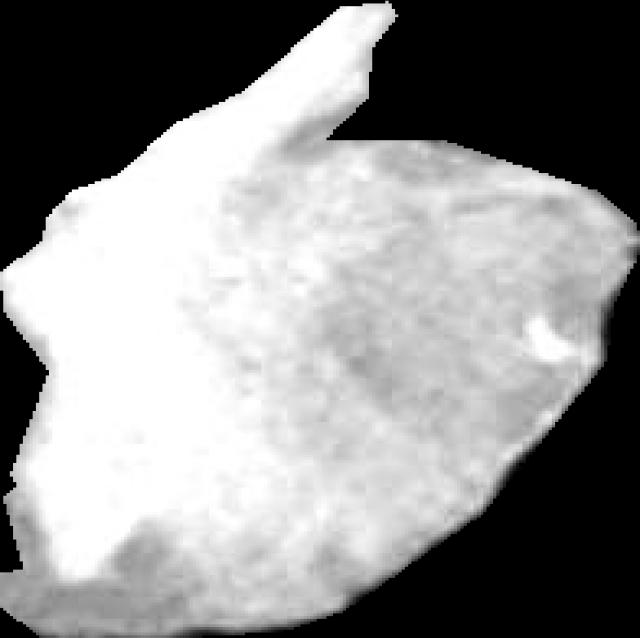tumor_moderate_chance: (0, 1, 640, 638)
